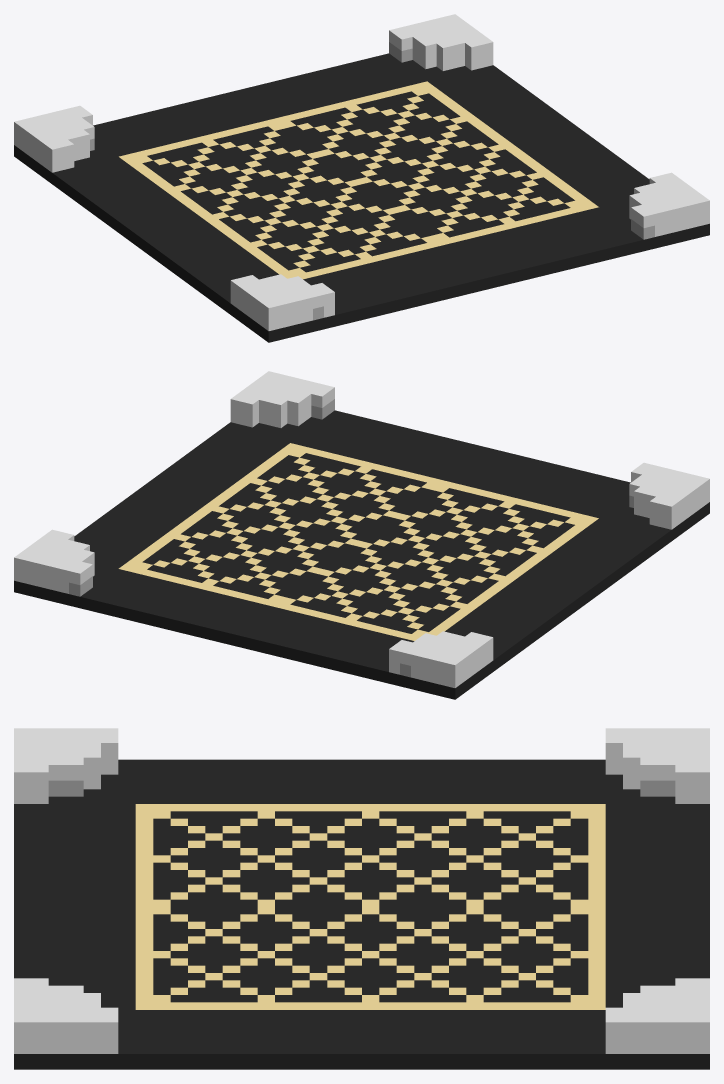
3 views of the same model, one above another, from view 1: azimuth 30°, elevation 25°; view 2: azimuth 150°, elevation 25°; view 3: azimuth 270°, elevation 25° (orthographic). The views are drawn at different scales.
Parts seen in each view (by area): view 1: Matrix; view 2: Matrix; view 3: Matrix.
Boxes of the visible parts, bbox=[...] form: Matrix: bbox=[14, 14, 709, 342]; Matrix: bbox=[14, 371, 709, 699]; Matrix: bbox=[14, 728, 709, 1069].
Bounding box in the file's own units: 40 × 3 × 40.
Materials: 1 (1 with a texture image).
